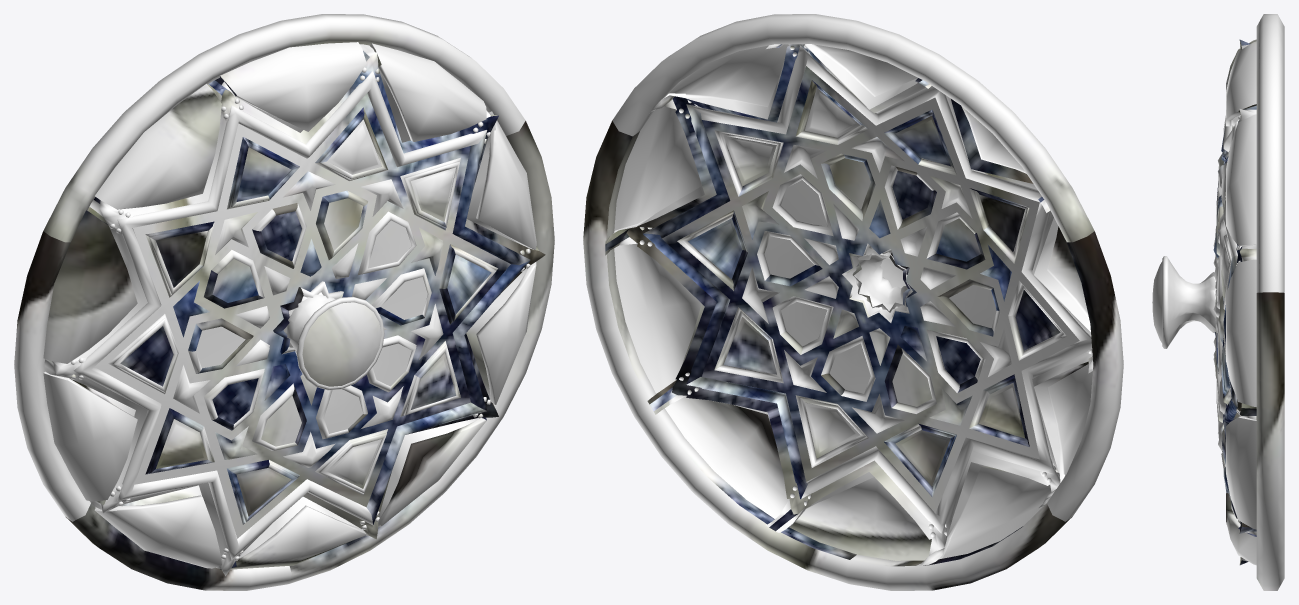
3 renders of one model, left to right at view 1: azimuth 30°, elevation 25°; view 2: azimuth 150°, elevation 25°; view 3: azimuth 270°, elevation 25°, orthographic. The views are drawn at different scales.
Bounding box in the file's own units: 0.4788 × 0.4788 × 0.1095.
